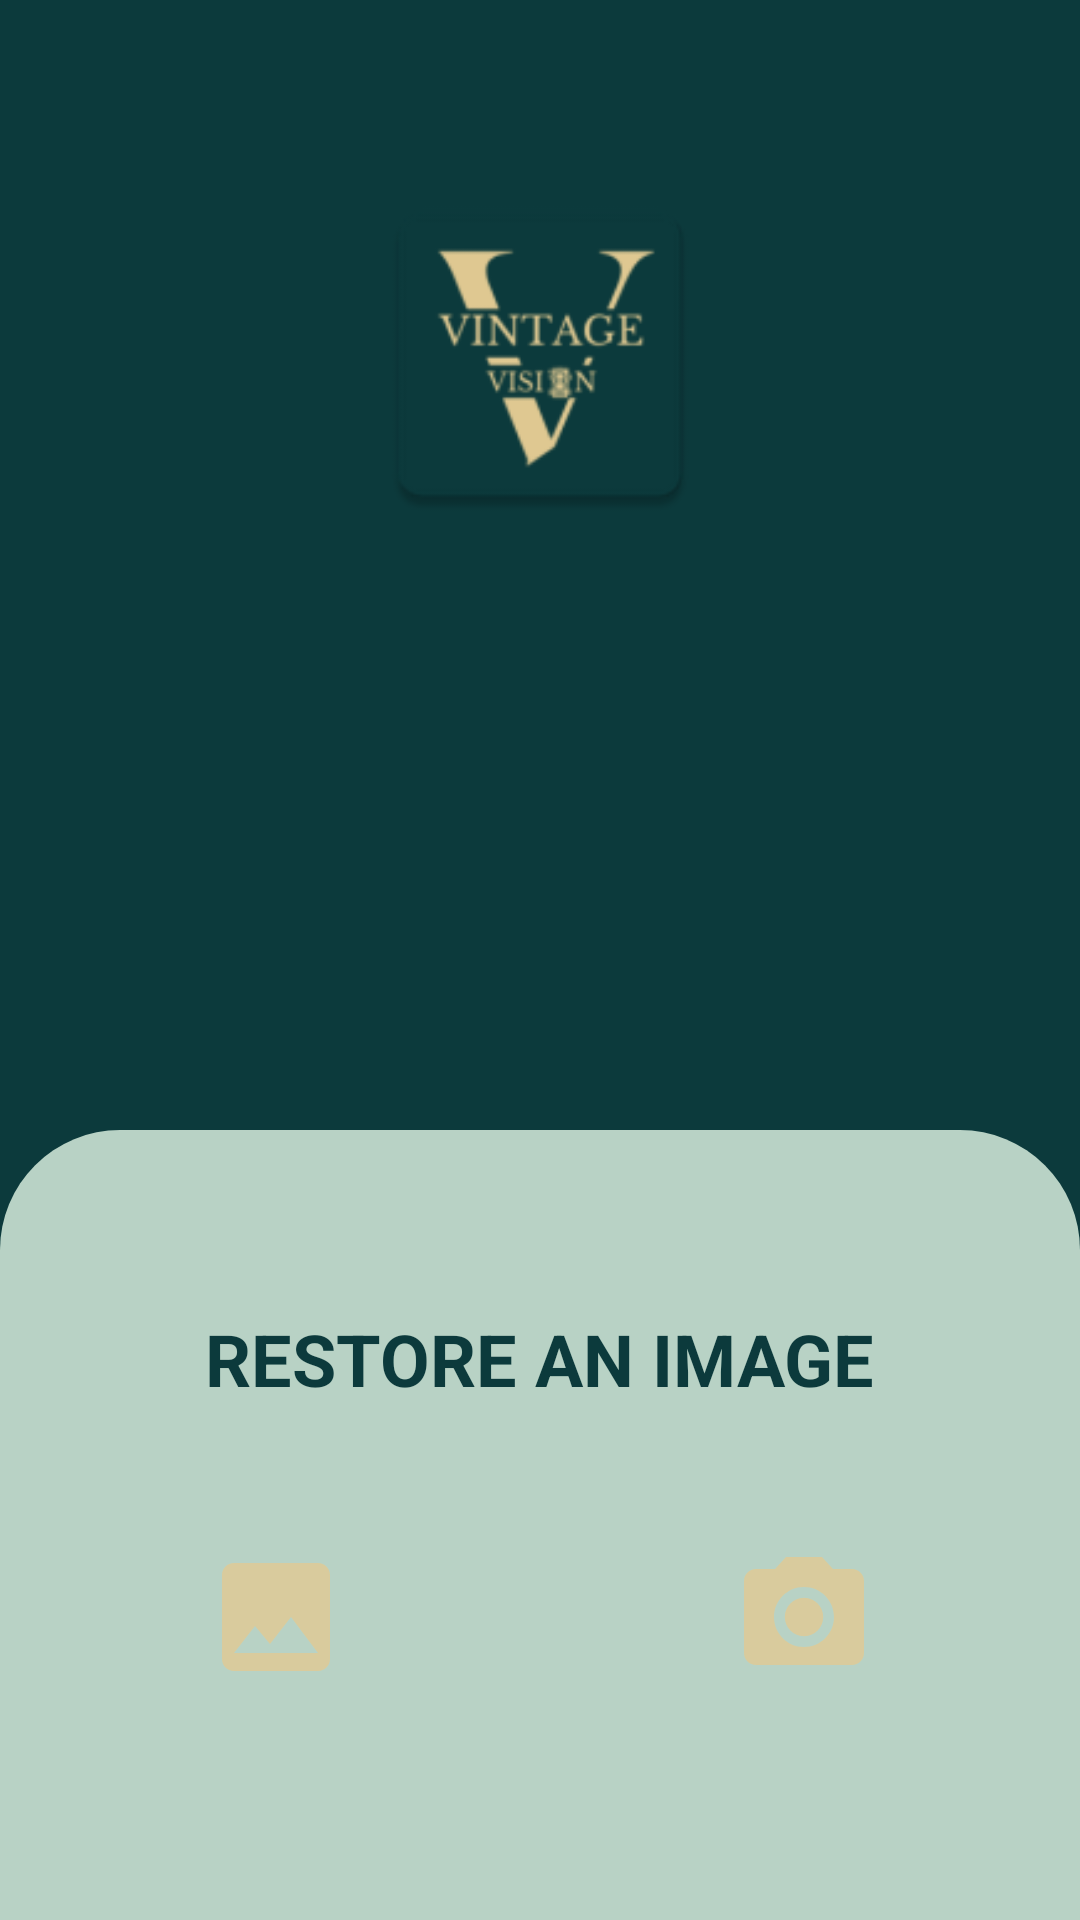

Icon click points for this 1080*1920 phone screenshot, format [x,y]:
camera button: [804,1611]
gallery button: [276,1617]
